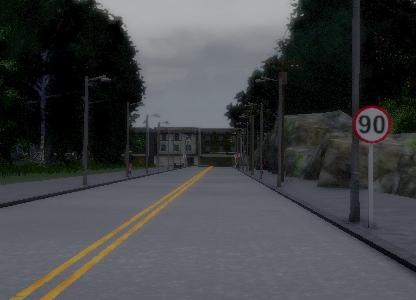Speed_90: (350, 102, 392, 146)
